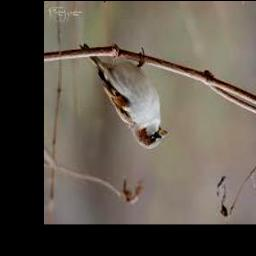Sparrow: (78, 44, 168, 149)
